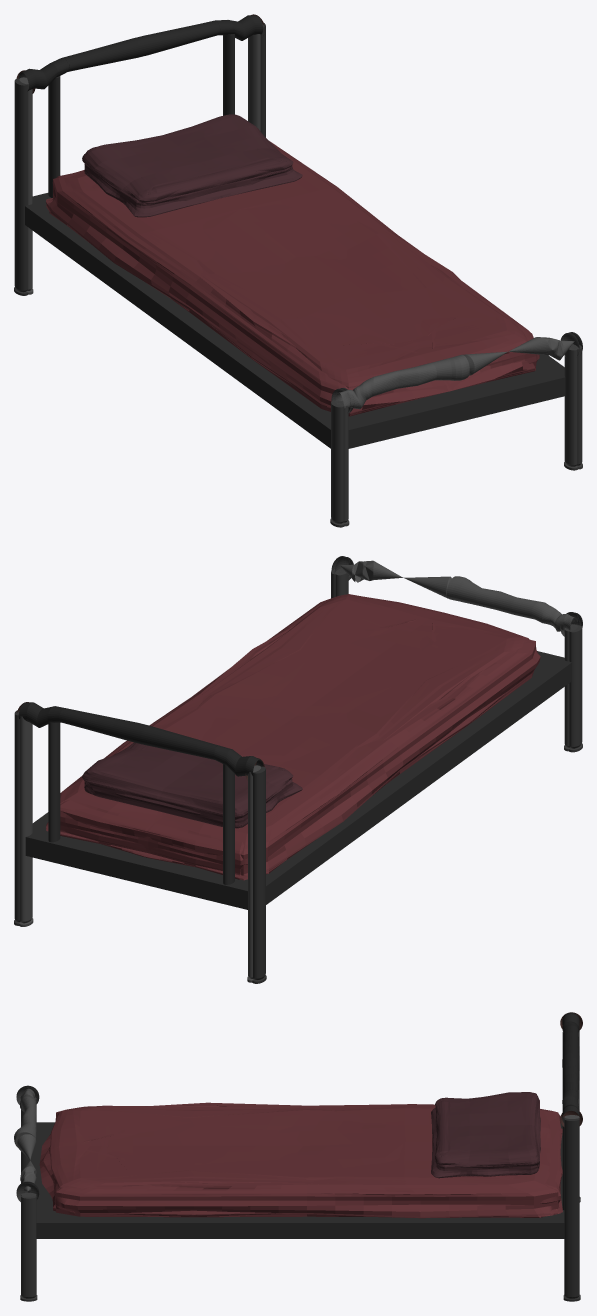
Rendered from PRP_Bed2.fbx.
The picture shows the model from 3 angles, top to bottom: view 1: azimuth 30°, elevation 25°; view 2: azimuth 150°, elevation 25°; view 3: azimuth 270°, elevation 25°; orthographic projection. The views are drawn at different scales.
Visible parts, largest first — view 1: Bed; view 2: Bed; view 3: Bed.
Part boxes in pixels (x1,y1,x2,y2): Bed: [14, 14, 582, 527]; Bed: [14, 556, 582, 983]; Bed: [14, 1012, 582, 1301].
Size of the model in its own units: 0.8667 by 0.7523 by 2.
